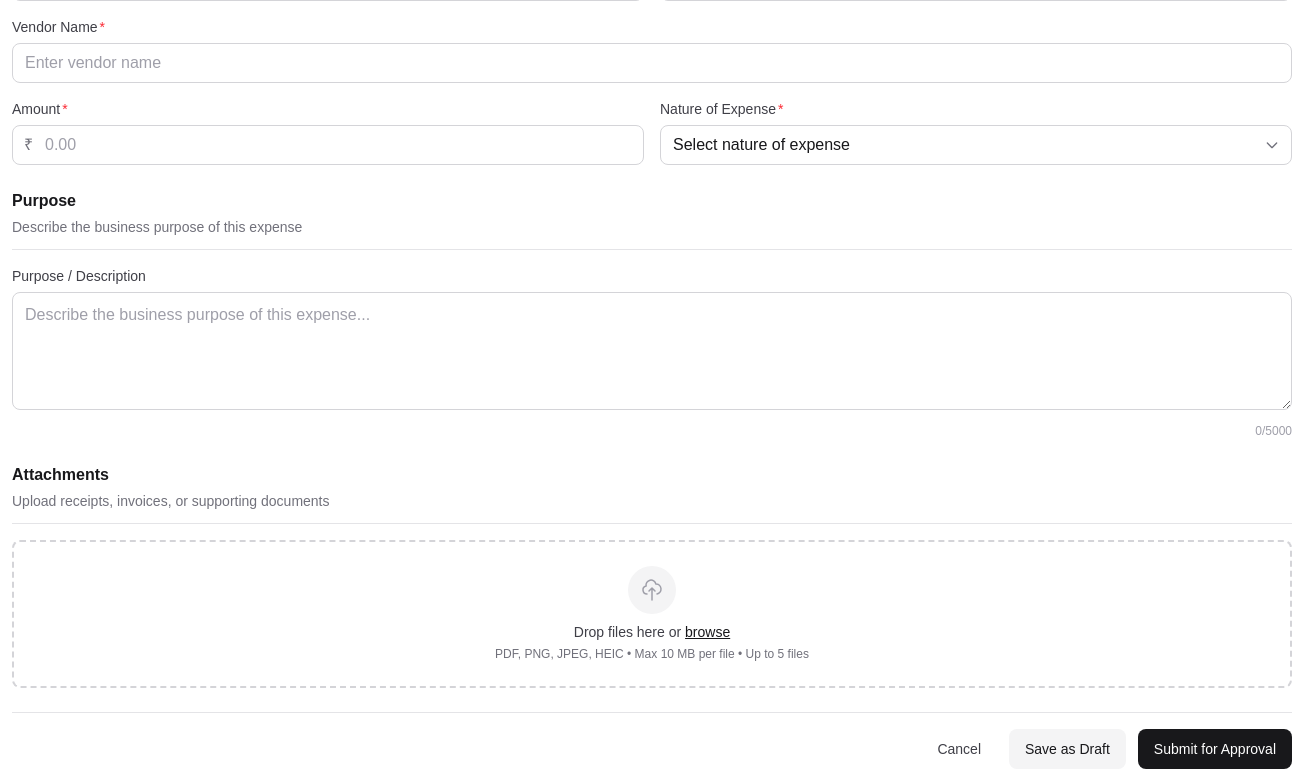
ExpenseSubmissionForm › Form Validation › should show error for missing vendor name on submit
This screenshot has width=1304, height=769.
(page scrolled)
Expected: the field labelled "Vendor Name*" is shown, [12,43,1292,83]
What coordinates should you click on to do the following:
click the button "Submit for Approval"
I would click on:
 (1215, 749)
Its box is [1138,729,1292,768].
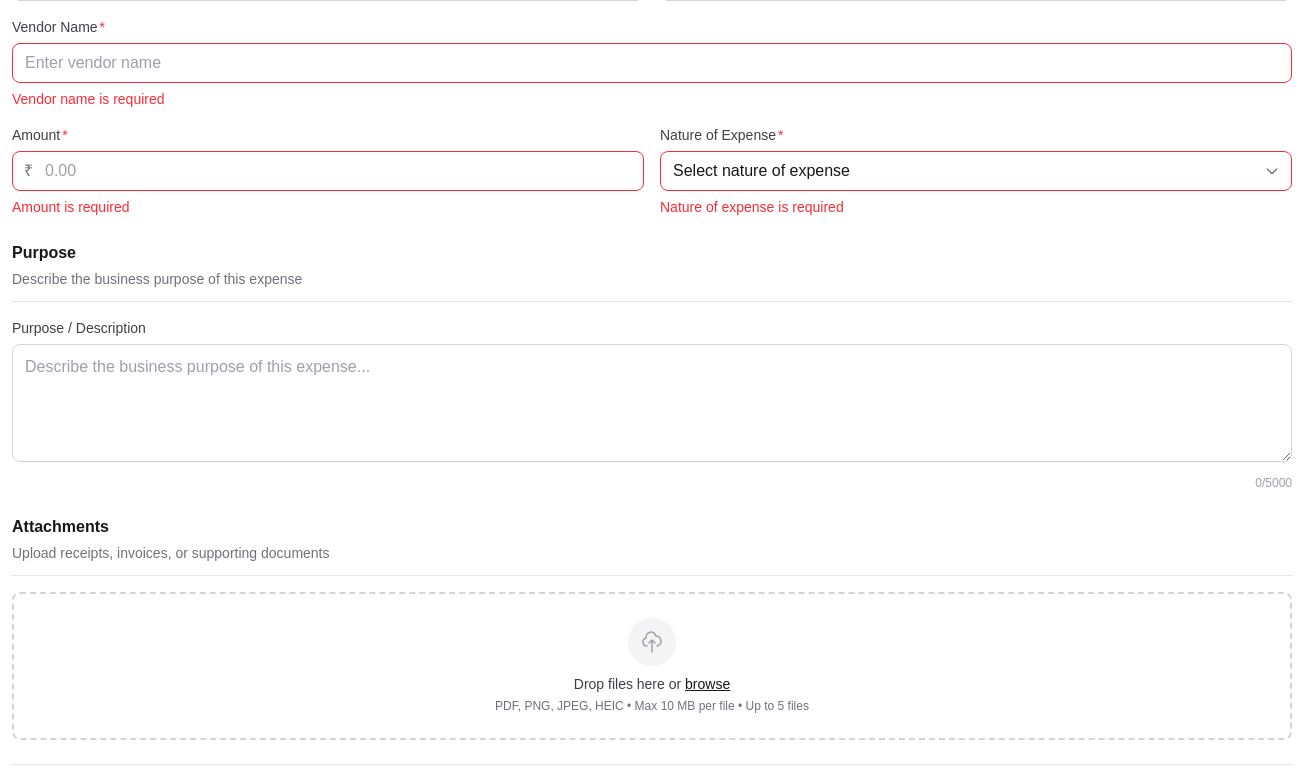
Now the text "Vendor name is required" is shown, box [12,91,164,107]
